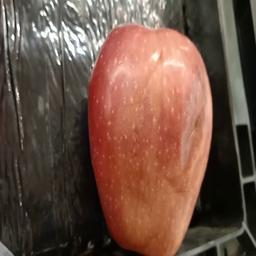Apple Semirotten: (88, 24, 219, 253)
